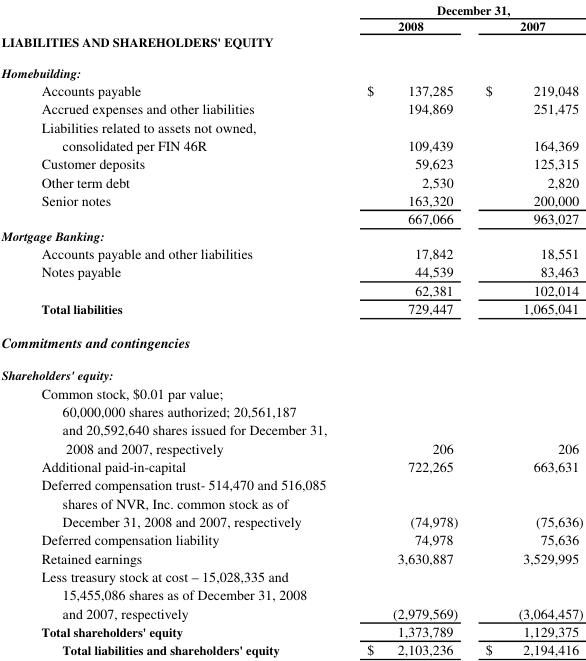table: (0, 1, 582, 658)
table column: (0, 1, 346, 658), (346, 1, 471, 658), (471, 1, 582, 658)
table column header: (0, 1, 582, 33)
table projected row header: (0, 325, 582, 359), (0, 33, 582, 57), (0, 359, 582, 383), (0, 57, 582, 80), (0, 227, 582, 243)
table row: (0, 383, 582, 456), (0, 474, 582, 529), (0, 566, 582, 621), (0, 117, 582, 153), (0, 325, 582, 359), (0, 298, 582, 325), (0, 33, 582, 57), (0, 359, 582, 383), (0, 57, 582, 80), (0, 98, 582, 117), (0, 153, 582, 172), (0, 208, 582, 227), (0, 261, 582, 280), (0, 529, 582, 548), (0, 639, 582, 658), (0, 80, 582, 98), (0, 172, 582, 190), (0, 190, 582, 208), (0, 243, 582, 261), (0, 280, 582, 298), (0, 456, 582, 474), (0, 548, 582, 566), (0, 621, 582, 639), (0, 1, 582, 17), (0, 17, 582, 33), (0, 227, 582, 243)
table spanning cell: (346, 1, 582, 17)
